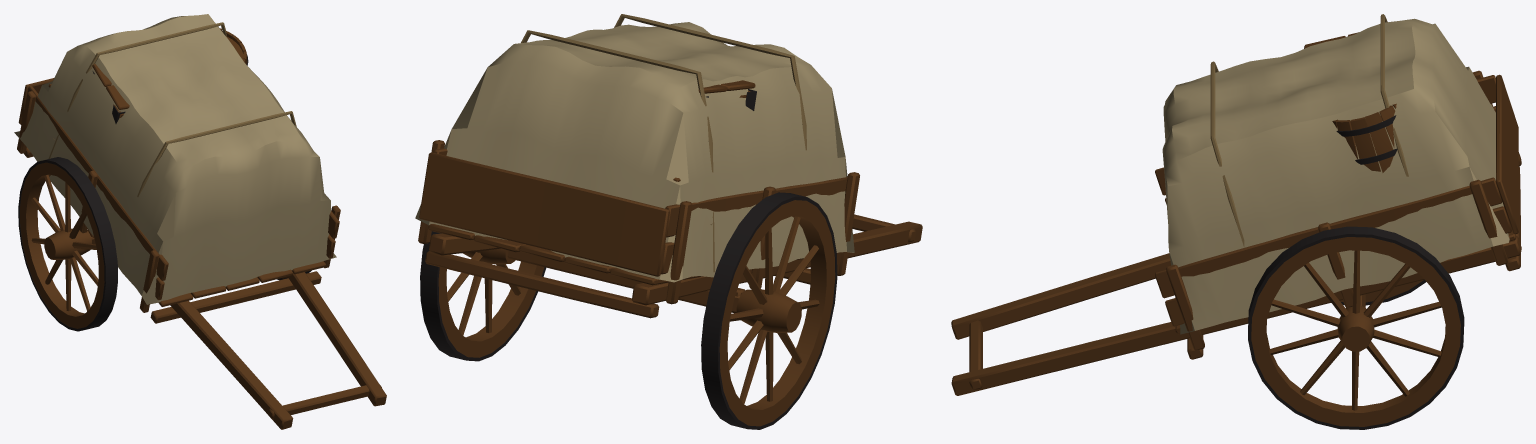
The model's file is versorgungswagen.glb.
3 views of the same model, side by side, from view 1: azimuth 30°, elevation 25°; view 2: azimuth 150°, elevation 25°; view 3: azimuth 270°, elevation 25° (orthographic). The views are drawn at different scales.
Parts seen in each view (by area): view 1: versorgungswagen; view 2: versorgungswagen; view 3: versorgungswagen.
Part boxes in pixels (left/top/right/bottom): versorgungswagen: left=14, top=14, right=386, bottom=429; versorgungswagen: left=415, top=14, right=922, bottom=429; versorgungswagen: left=951, top=14, right=1521, bottom=429.
Size of the model in its own units: 1.46 by 1.48 by 2.41.
